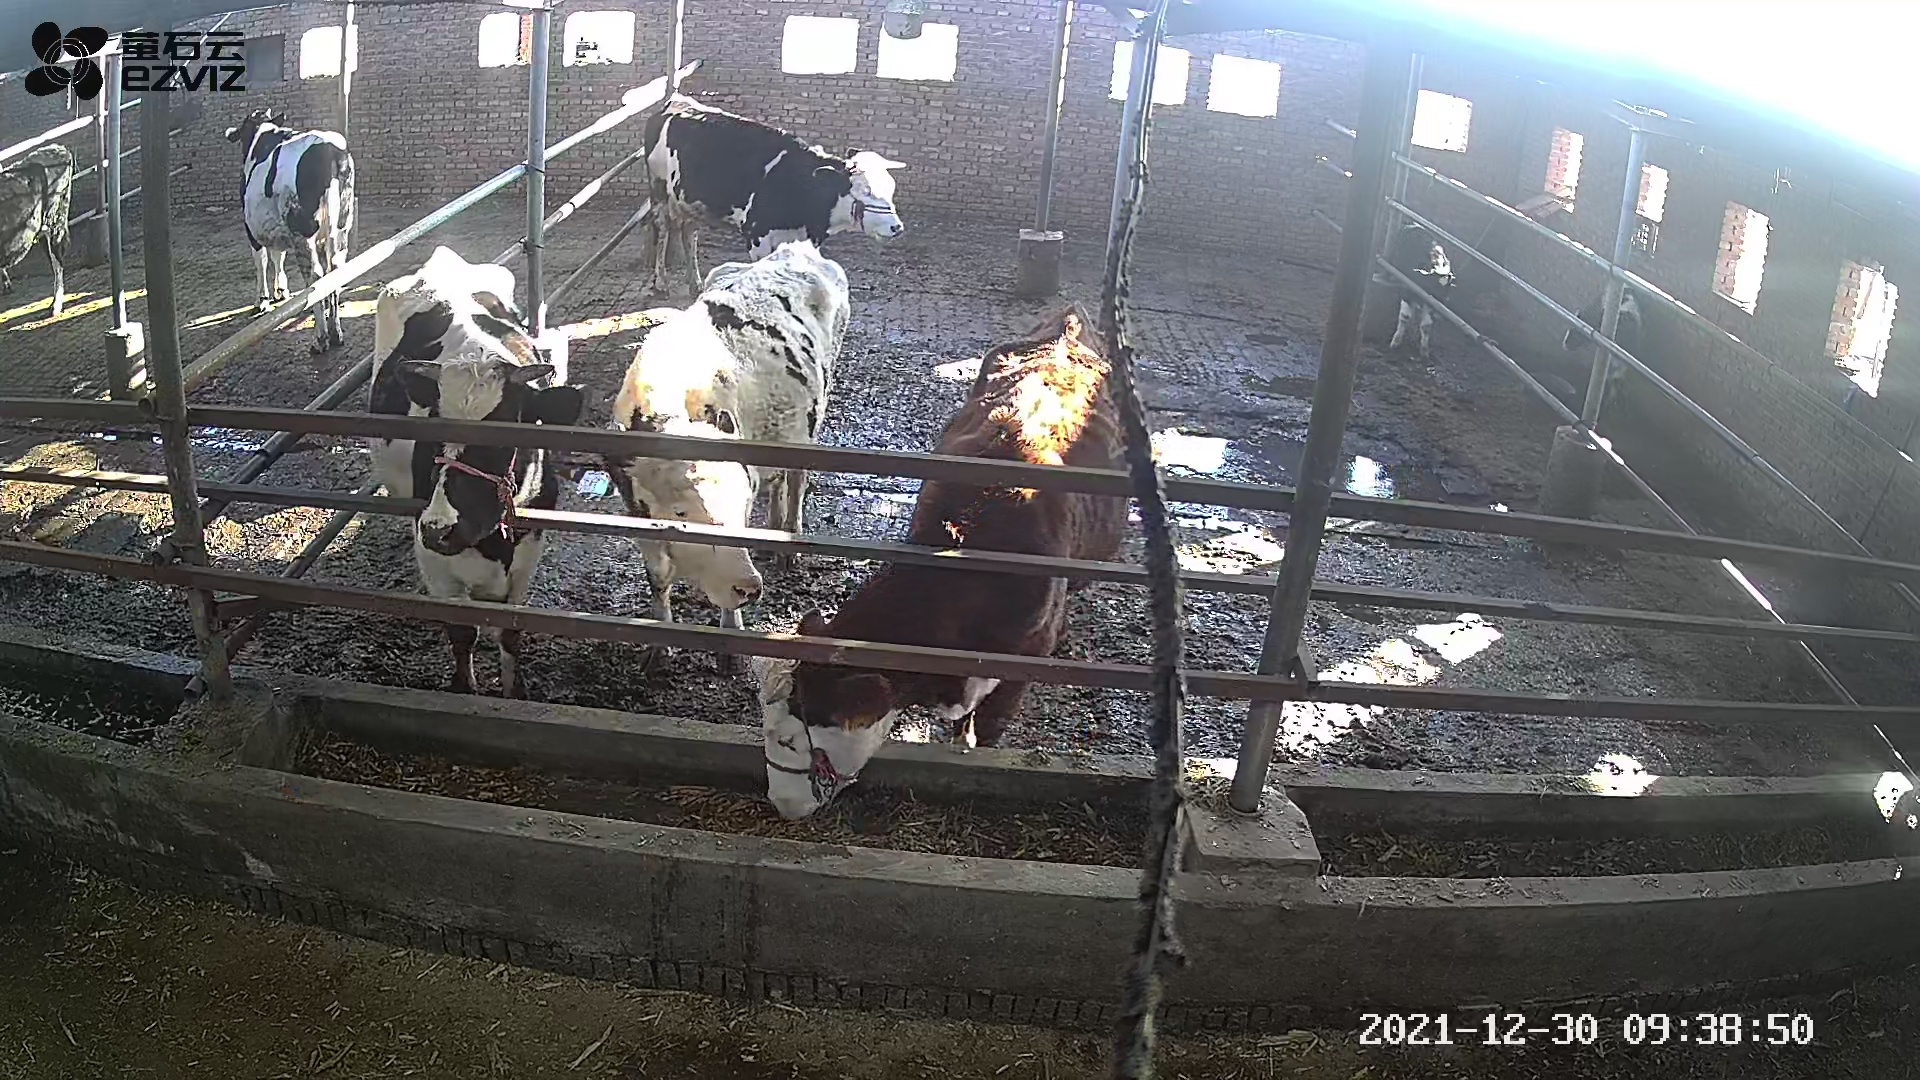cow: (752, 295, 1131, 825), (607, 235, 849, 680), (367, 243, 583, 703), (641, 90, 907, 301)
